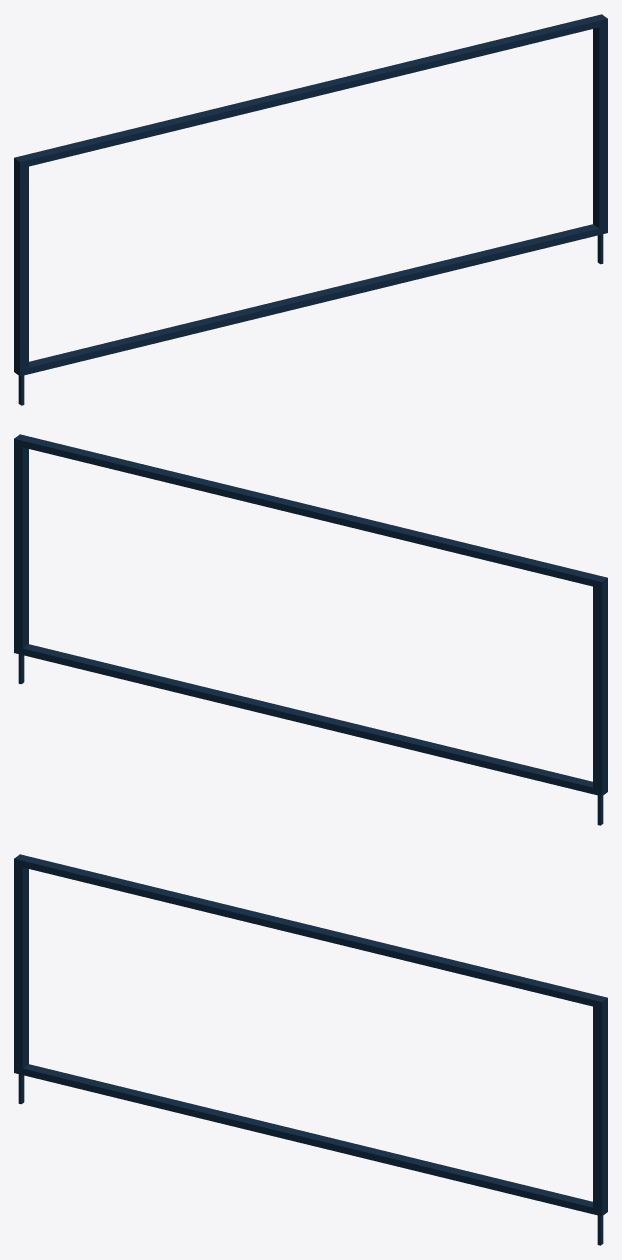
Rendered from RailShort_RailingMid.FBX.
3 views of the same model, one above another, from view 1: azimuth 30°, elevation 25°; view 2: azimuth 150°, elevation 25°; view 3: azimuth 330°, elevation 25° (orthographic).
Parts seen in each view (by area): view 1: RailShort_RailingMid; view 2: RailShort_RailingMid; view 3: RailShort_RailingMid.
Part boxes in pixels (x1=…): RailShort_RailingMid: x1=14, y1=14, x2=607, y2=405; RailShort_RailingMid: x1=14, y1=434, x2=607, y2=825; RailShort_RailingMid: x1=14, y1=854, x2=607, y2=1245.
Size of the model in its own units: 280 by 5 by 112.
